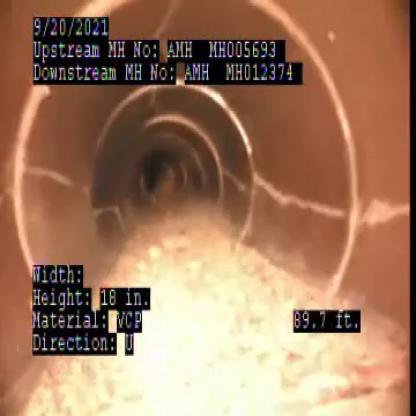Crack: (253, 168, 343, 226), (25, 163, 86, 196)
